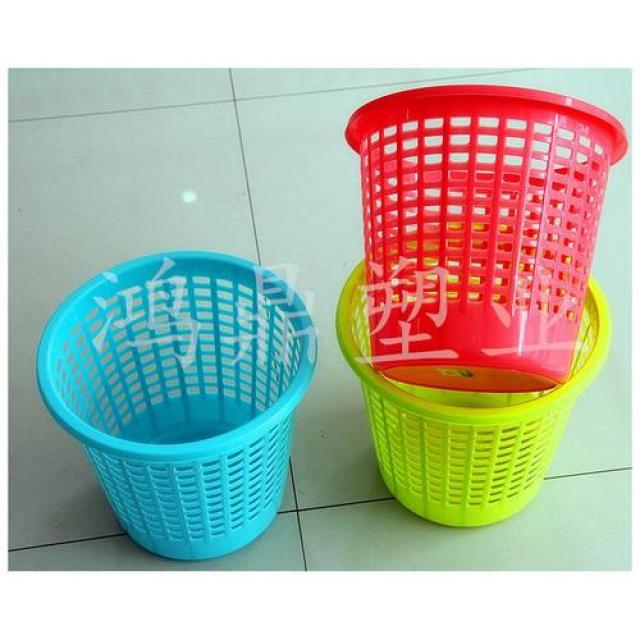Dustbin: (340, 76, 632, 395), (32, 245, 322, 566), (331, 216, 617, 532)
